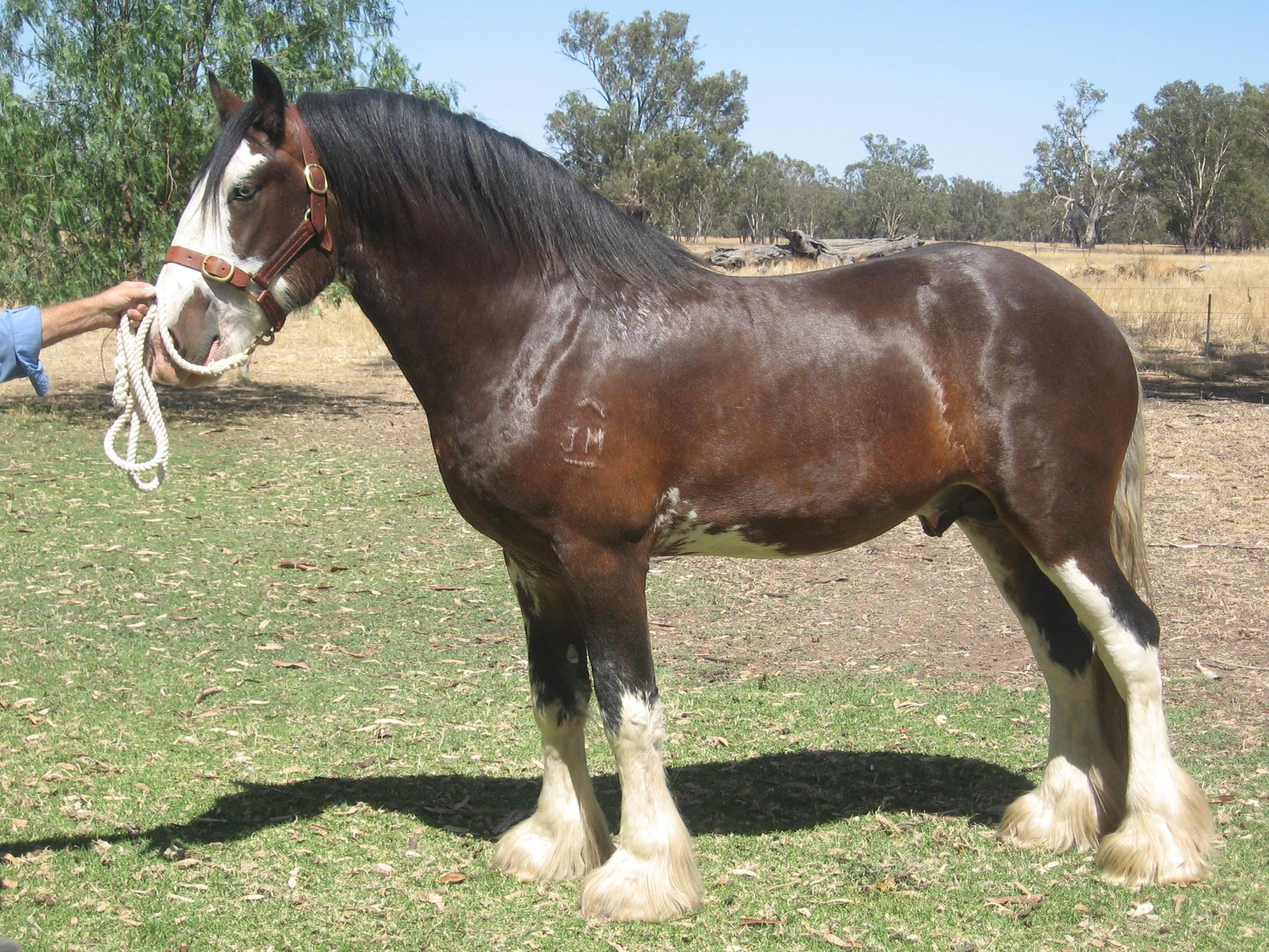horse: (134, 43, 1225, 936)
